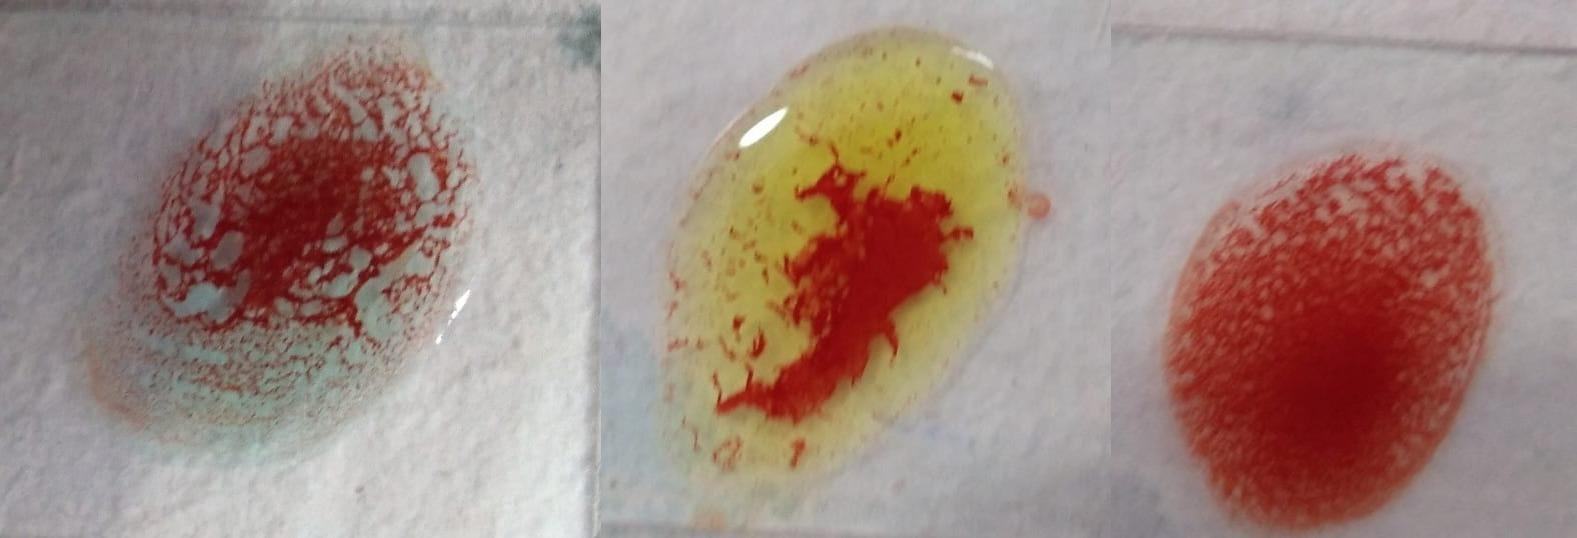A: (82, 38, 477, 445)
B: (662, 23, 1027, 482)
D: (1165, 135, 1484, 526)
